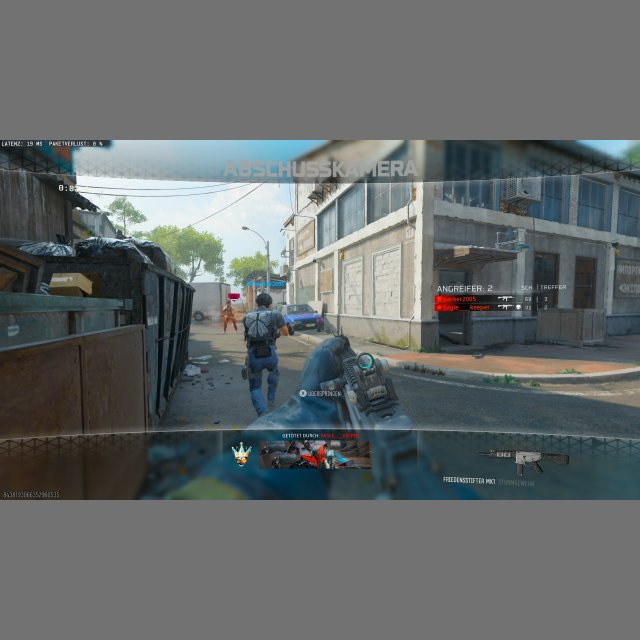head: (255, 292, 272, 308)
player: (241, 292, 293, 417), (222, 301, 236, 332)
